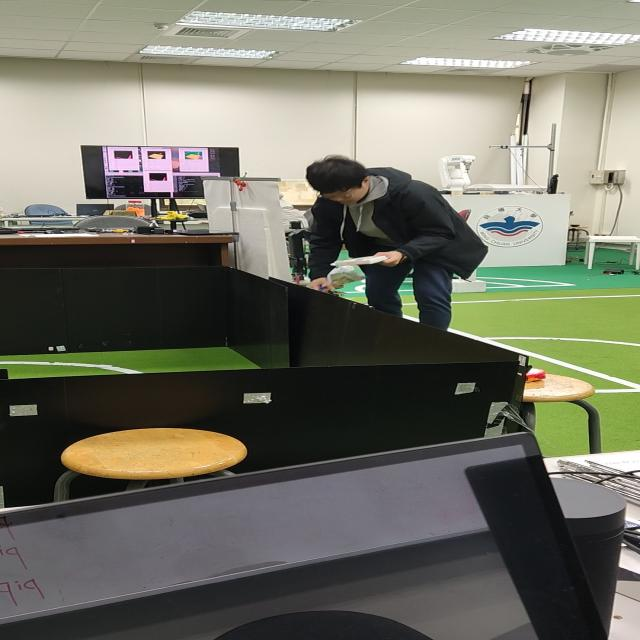person: (288, 148, 496, 339)
